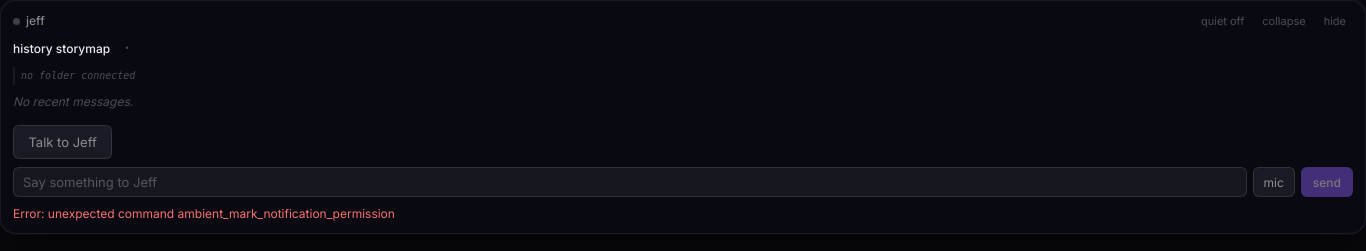
Test case: Overlay onboarding › switches tasks inline without showing an open workspace button
The width and height of the screenshot is (1366, 251).
Expected: the text "history storymap" is shown, [13, 40, 110, 58]
Click the button with test id "overlay-task-switcher" showing "·". click: (127, 49)
box: [116, 39, 138, 59]
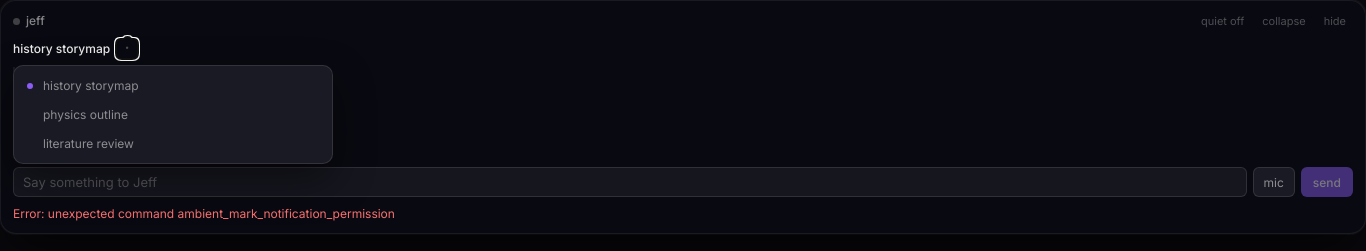
Expected: the element with test id "overlay-task-menu" shows "physics outline"
Click the button with test id "overlay-task-option-2". click: (85, 114)
box: [20, 101, 326, 128]
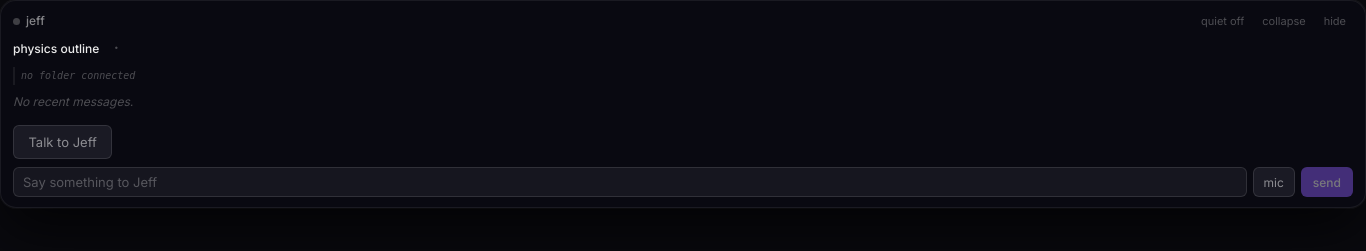
Expected: the text "physics outline" is shown, [13, 40, 99, 58]
